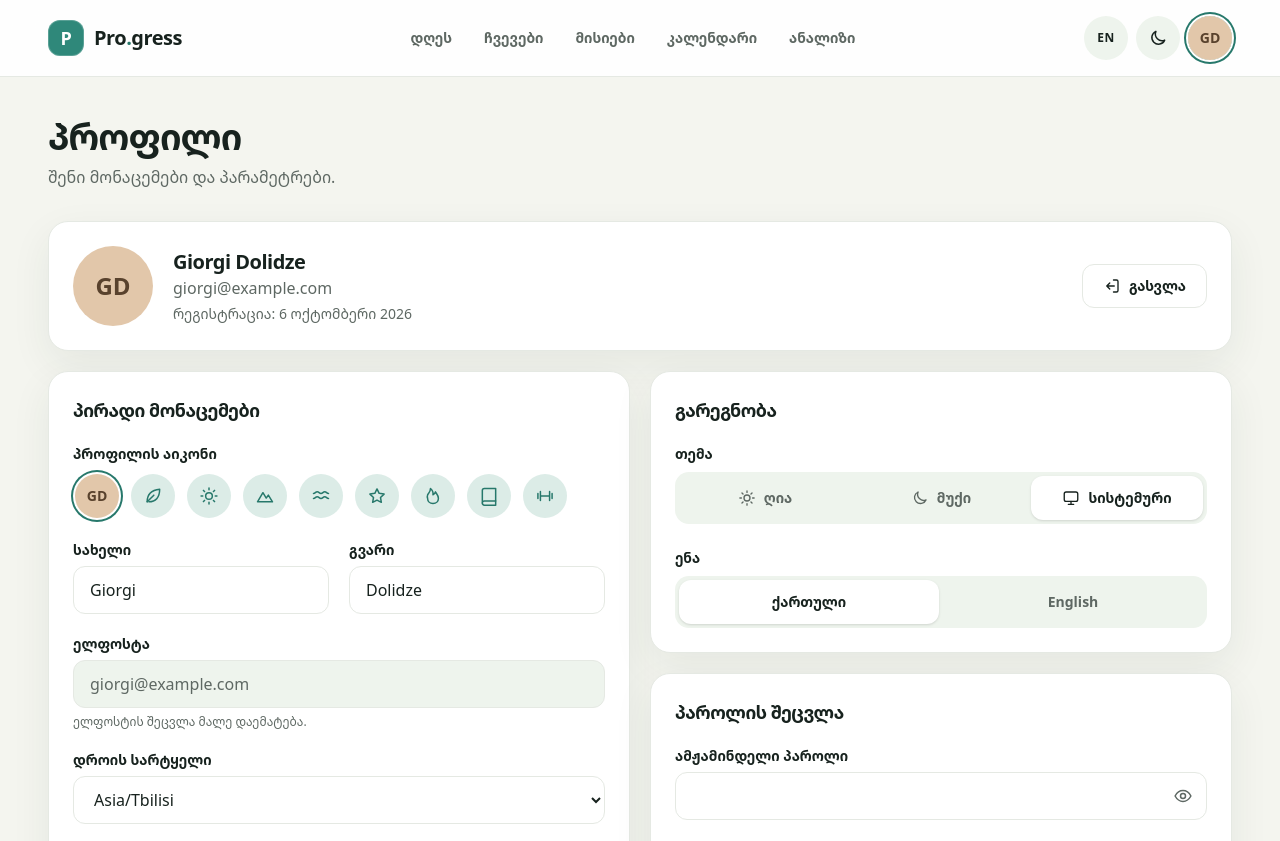
Test: profile (US-3, US-4) › shows a field error for a wrong current password
Expected: the heading "პირადი მონაცემები" is shown, top-left (73, 398), bottom-right (260, 422)
Type "nope-nope1" into the password field labelled "ამჟამინდელი პაროლი". click: (941, 796)
box: top-left (675, 772), bottom-right (1207, 820)
(page scrolled)
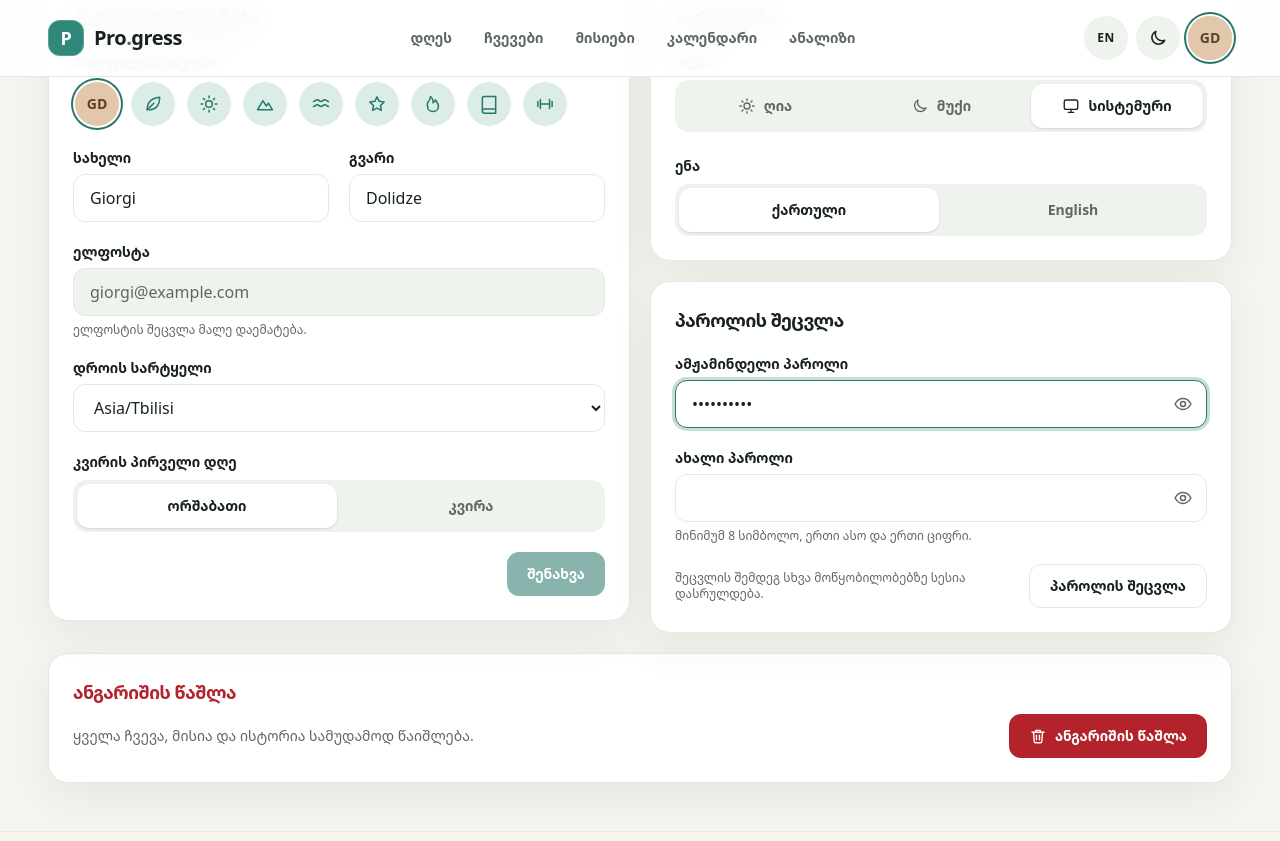
Type "brandnew42" into the password field labelled "ახალი პაროლი". click: (941, 498)
box: top-left (675, 474), bottom-right (1207, 522)
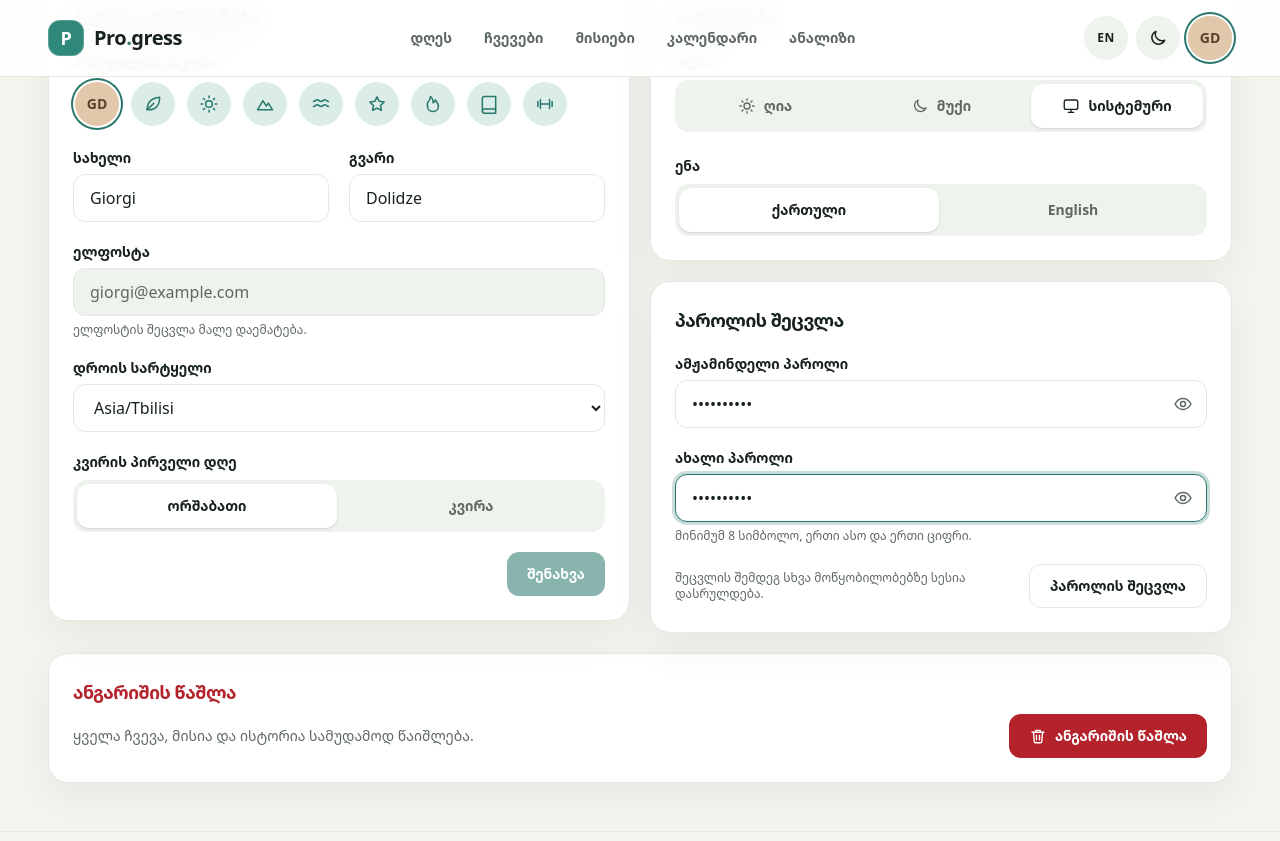
Click the button "პაროლის შეცვლა". click: click(1118, 586)
box: top-left (1029, 564), bottom-right (1207, 608)
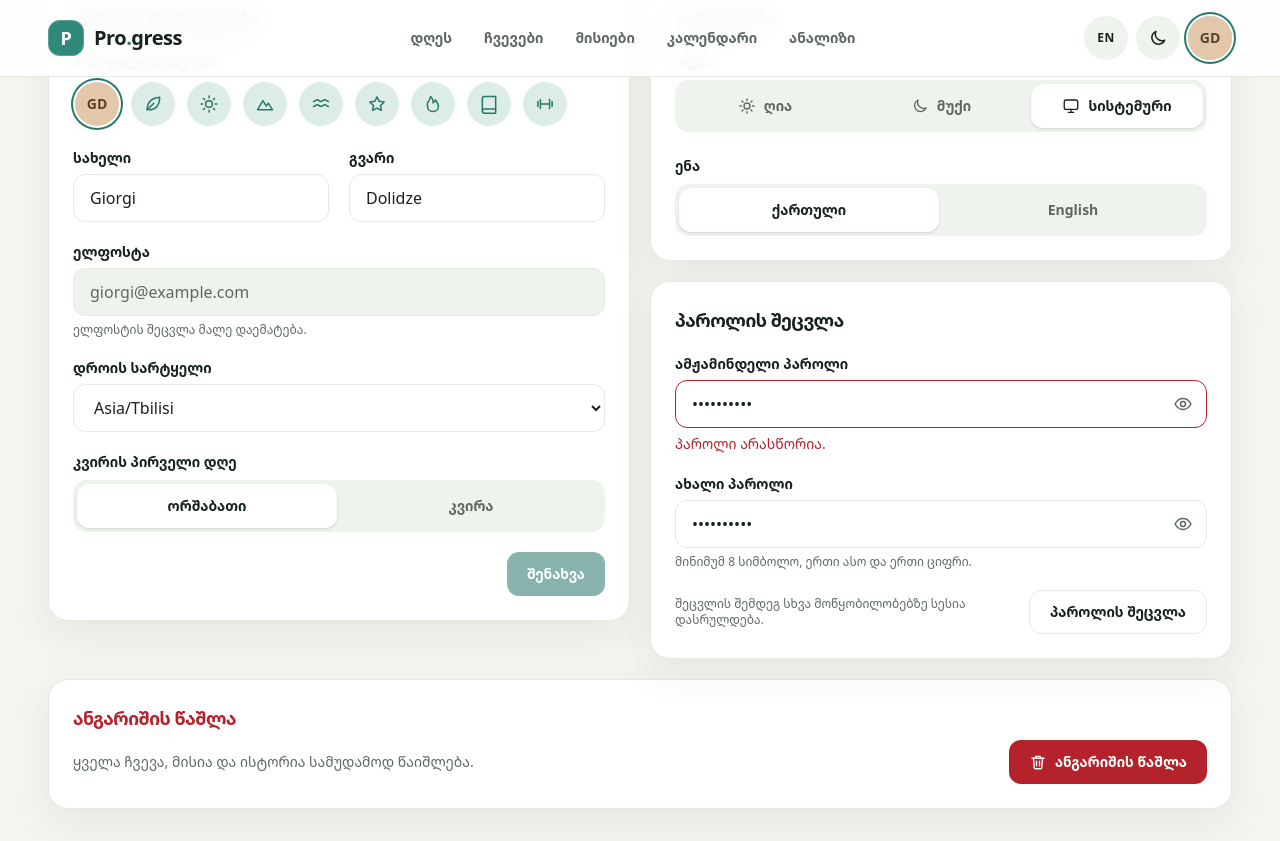
Expected: the text "პაროლი არასწორია." is shown, top-left (675, 434), bottom-right (826, 453)
